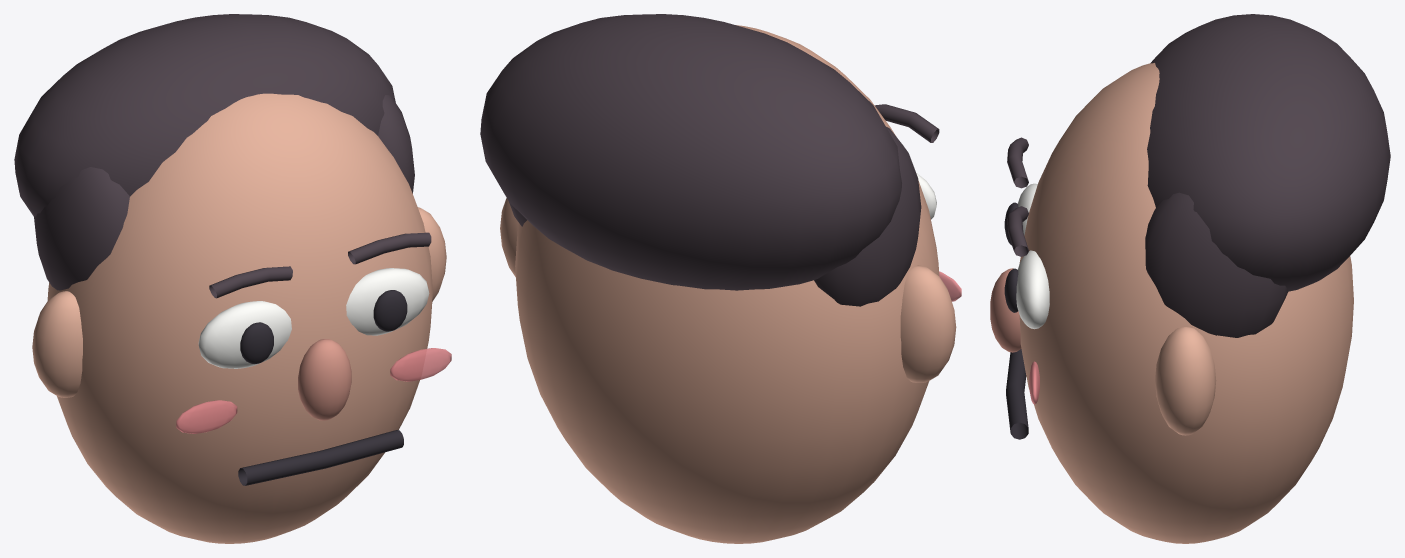
Rendered from valence_face.glb.
3 views of the same model, side by side, from view 1: azimuth 30°, elevation 25°; view 2: azimuth 150°, elevation 25°; view 3: azimuth 270°, elevation 25° (orthographic). The views are drawn at different scales.
Visible parts, largest first — view 1: ValenceFace; view 2: ValenceFace; view 3: ValenceFace.
Boxes of the visible parts, x1,y1,x2,y2 form: ValenceFace: (14, 14, 451, 543); ValenceFace: (480, 14, 961, 543); ValenceFace: (990, 14, 1390, 543).
Size of the model in its own units: 1.56 by 1.74 by 1.31.
